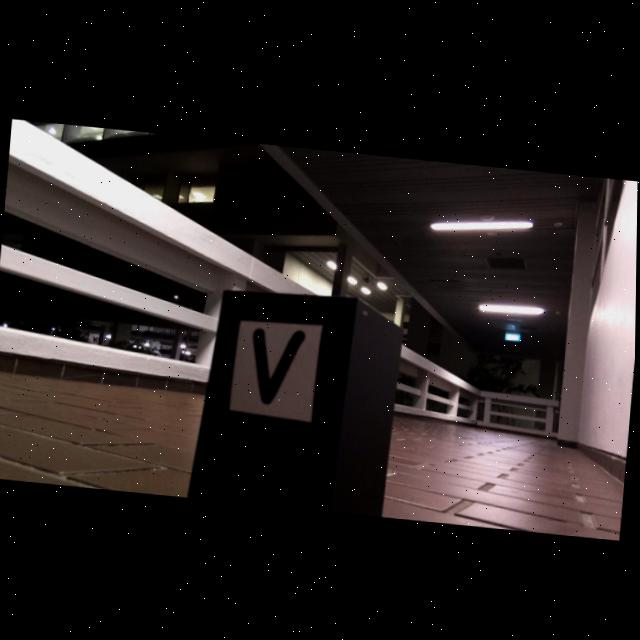V: (252, 327, 305, 403)
